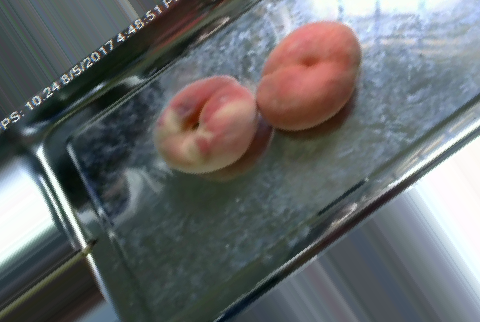Peach: (256, 20, 360, 130), (155, 75, 262, 174)
